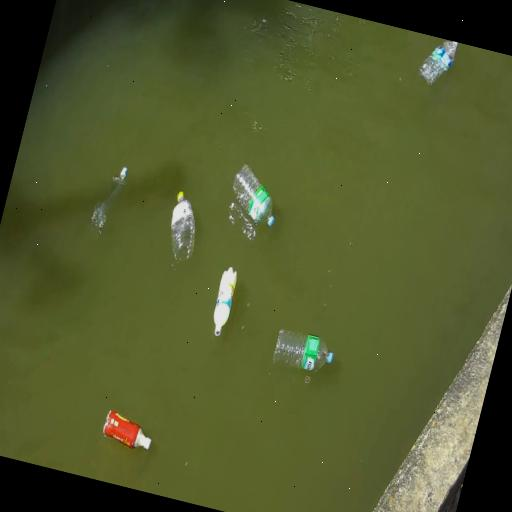plastic: (233, 165, 274, 226), (273, 330, 333, 371), (91, 168, 127, 233), (103, 411, 151, 450), (419, 40, 457, 85), (171, 191, 195, 261), (213, 267, 237, 336)
